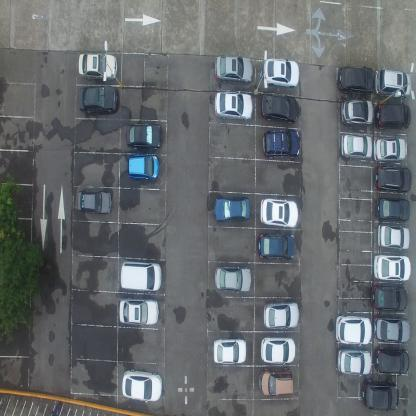car: (120, 258, 162, 292), (259, 90, 300, 124), (121, 367, 162, 401), (257, 196, 299, 229), (260, 127, 302, 160), (76, 50, 118, 81), (214, 89, 253, 122), (212, 54, 253, 85), (76, 85, 118, 115), (262, 56, 301, 88), (119, 296, 160, 326), (362, 378, 399, 410), (372, 314, 411, 344), (336, 313, 372, 345), (214, 264, 252, 294), (337, 66, 375, 96), (373, 253, 412, 282), (260, 334, 296, 365), (258, 367, 294, 397), (375, 69, 411, 99), (375, 101, 411, 131), (374, 346, 410, 376), (124, 123, 163, 150), (263, 300, 299, 329), (371, 284, 408, 312), (258, 232, 296, 259), (374, 165, 412, 192), (213, 195, 250, 222), (77, 189, 112, 217), (214, 336, 247, 365), (340, 98, 374, 125), (375, 196, 410, 222), (126, 154, 159, 181), (340, 132, 373, 159), (338, 349, 371, 376), (377, 224, 410, 250), (374, 136, 406, 162)
